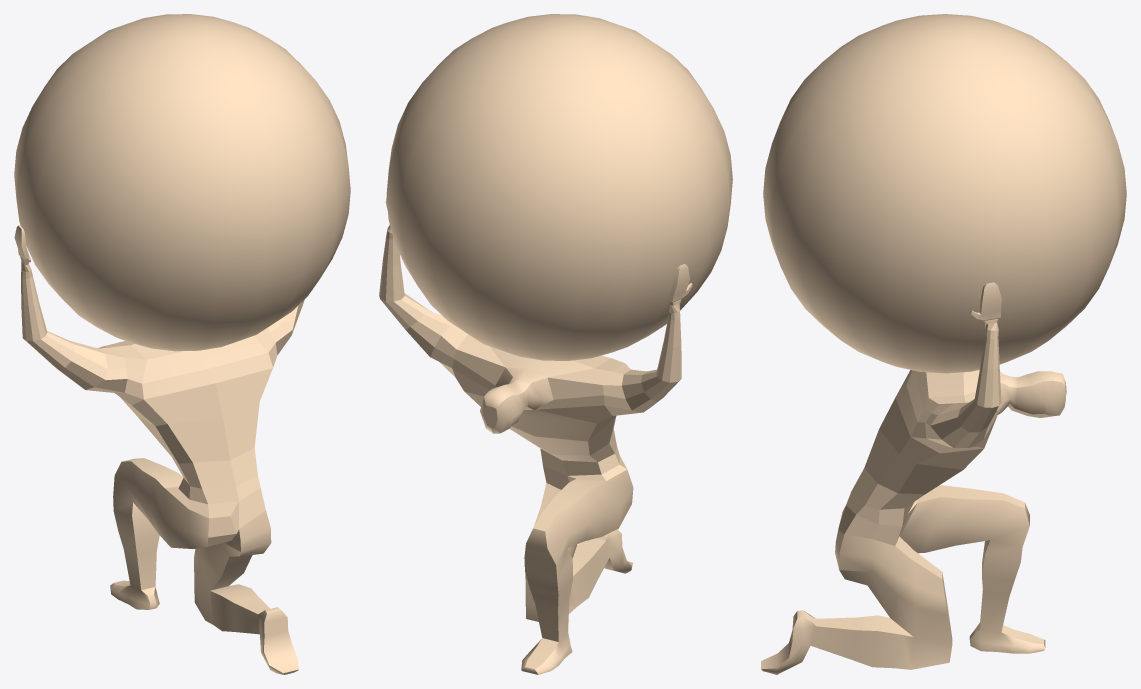
File: atlas_statue.fbx
3 renders of one model, left to right at view 1: azimuth 30°, elevation 25°; view 2: azimuth 150°, elevation 25°; view 3: azimuth 270°, elevation 25°, orthographic. The views are drawn at different scales.
Parts seen in each view (by area): view 1: pSphere1, pCube10; view 2: pSphere1, pCube10; view 3: pSphere1, pCube10.
Part boxes in pixels (<box>): pSphere1: <box>14,14,350,351</box>; pCube10: <box>14,225,304,674</box>; pSphere1: <box>386,14,732,360</box>; pCube10: <box>379,197,692,674</box>; pSphere1: <box>763,14,1126,373</box>; pCube10: <box>761,282,1066,674</box>.
Bounding box in the file's own units: 7.28 × 13.7 × 7.22.
